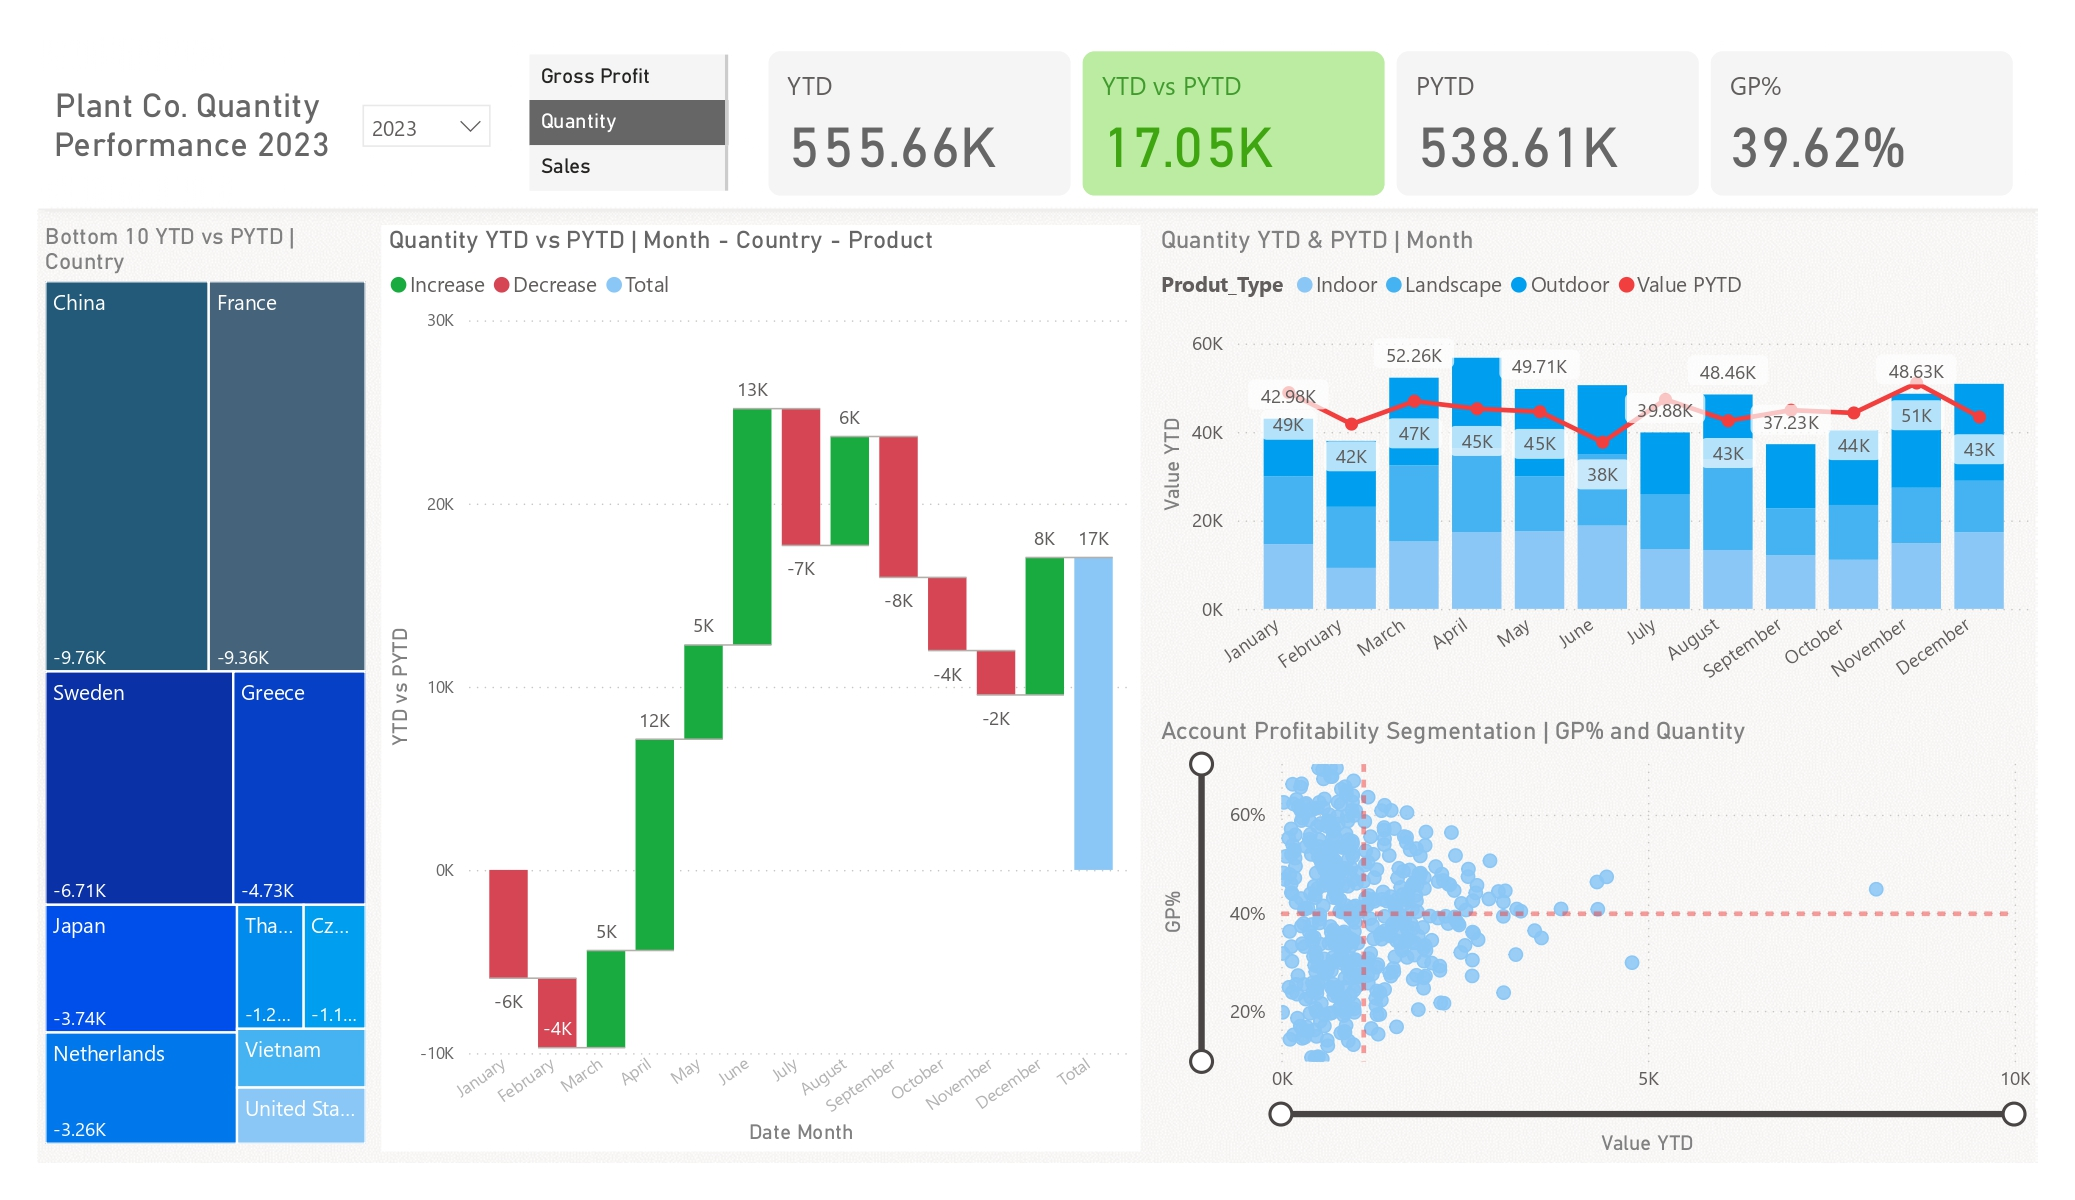

The dashboard page shown, as its layout file describes it:
{"tool":"powerbi","page":{"name":"Performance Report","canvas":[1280,720],"ordinal":0},"visuals":[{"type":"cardVisual","fields":{"Data":["_Measures.S_YTD","_Measures.YTD vs PYTD","_Measures.S_PYTD","_Measures.GP%"]},"box":[463,4.2,806.2,102.1],"z":0},{"type":"advancedSlicerVisual","fields":{"Values":["Slc_Values.Values"]},"box":[309.8,5.9,137.3,98],"z":1000},{"type":"slicer","fields":{"Values":["Dim_Date.Date.Variation.Date Hierarchy.Year"]},"box":[198.4,32.7,101.3,50.2],"z":2000},{"type":"treemap","title":"Bottom 10 YTD vs PYTD | Country","fields":{"Values":["_Measures.YTD vs PYTD"],"Group":["Dim_Account.country"]},"box":[0,118.7,214.6,594.4],"z":3000},{"type":"waterfallChart","fields":{"Y":["_Measures.YTD vs PYTD"],"Category":["Dim_Date.Date.Variation.Date Hierarchy.Month","Dim_Account.country","Dim_Product.Produt_Type","Dim_Product.Product_Name"]},"box":[220.3,119.6,485.2,593.5],"z":4000},{"type":"lineStackedColumnComboChart","fields":{"Y":["_Measures.S_YTD"],"Y2":["_Measures.S_PYTD"],"Category":["Dim_Date.Date.Variation.Date Hierarchy.Quarter","Dim_Date.Date.Variation.Date Hierarchy.Month"],"Series":["Dim_Product.Produt_Type"]},"box":[714.1,119.6,565.9,314.3],"z":5000},{"type":"scatterChart","fields":{"Y":["_Measures.GP%"],"X":["_Measures.S_YTD"],"Category":["Dim_Account.Account"]},"box":[714.1,433.9,565.9,285.8],"z":6000},{"type":"card","fields":{"Values":["_Measures._Report title"]},"box":[0,20.9,198.5,68.4],"z":7000}]}

Visuals, with their boxes on the page's 1280x720 design canvas (x1, y1, x2, y2). These are canvas units, not pixel positions in the 2075x1200 screenshot, which may show the page scaled, cropped or inside an application window:
cardVisual - _Measures.S_YTD x _Measures.YTD vs PYTD: 463 4 1269 106
advancedSlicerVisual - Slc_Values.Values: 310 6 447 104
slicer - Dim_Date.Date.Variation.Date Hierarchy.Year: 198 33 300 83
"Bottom 10 YTD vs PYTD | Country" treemap: 0 119 215 713
waterfallChart - _Measures.YTD vs PYTD x Dim_Date.Date.Variation.Date Hierarchy.Month: 220 120 706 713
lineStackedColumnComboChart - _Measures.S_YTD x _Measures.S_PYTD: 714 120 1280 434
scatterChart - _Measures.GP% x _Measures.S_YTD: 714 434 1280 720
card - _Measures._Report title: 0 21 198 89
